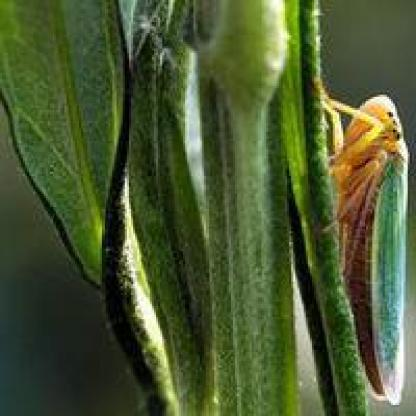Green-Leafhopper: (306, 62, 416, 416)
